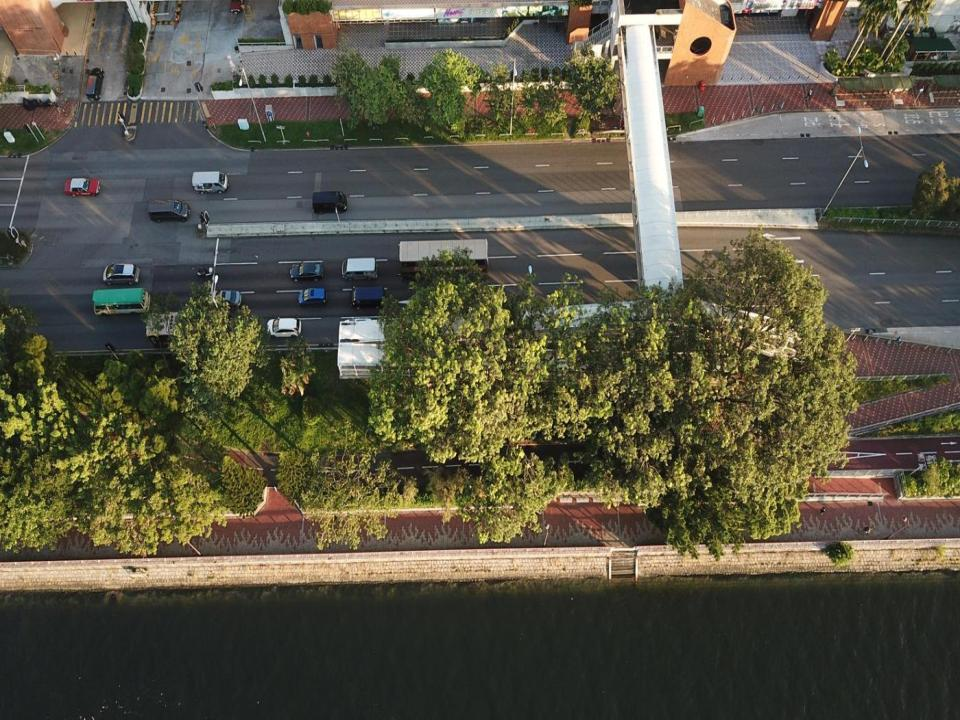bus: (399, 238, 490, 282), (147, 311, 227, 348), (92, 288, 152, 314)
car: (264, 316, 302, 337), (64, 178, 101, 197), (289, 260, 324, 280), (86, 68, 104, 100), (204, 291, 242, 306), (297, 288, 328, 305), (229, 0, 242, 14)
van: (147, 199, 190, 223), (349, 285, 385, 311), (312, 190, 347, 215), (192, 170, 228, 194), (341, 256, 377, 280), (102, 263, 141, 283)
